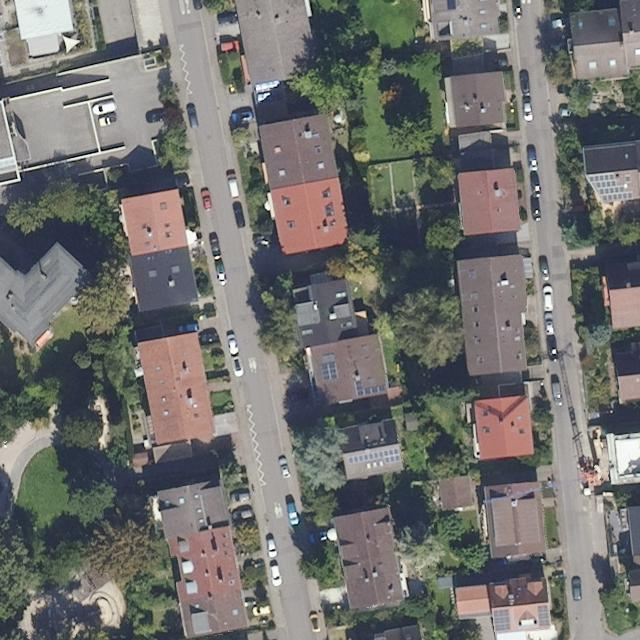PV: (588, 173, 634, 202), (348, 447, 401, 466), (353, 378, 386, 399), (493, 609, 511, 632), (320, 360, 338, 382), (536, 604, 550, 627)
